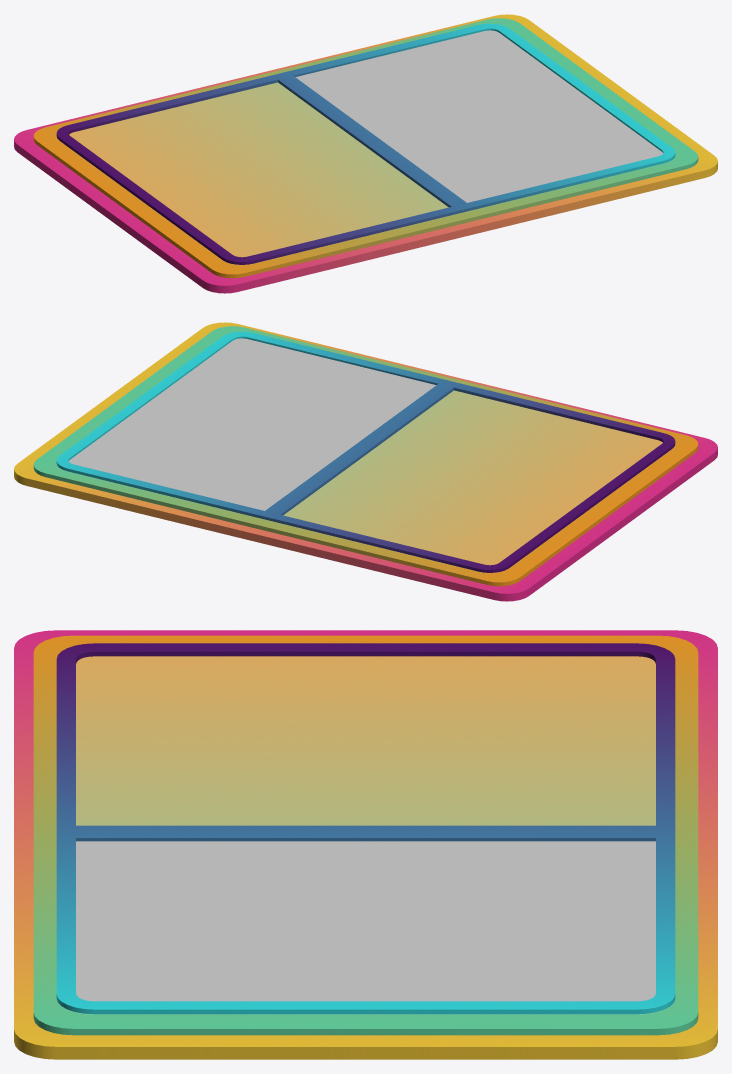
Rendered from Card Design.fbx.
3 renders of one model, top to bottom at view 1: azimuth 30°, elevation 25°; view 2: azimuth 150°, elevation 25°; view 3: azimuth 270°, elevation 25°, orthographic. The views are drawn at different scales.
Visible parts, largest first — view 1: Card Inner Background, Card Background Art Holder, Card Art Holder, Card Art Sleeve, Card Outer Background; view 2: Card Inner Background, Card Background Art Holder, Card Art Holder, Card Art Sleeve, Card Outer Background; view 3: Card Inner Background, Card Background Art Holder, Card Art Holder, Card Art Sleeve, Card Outer Background.
Part boxes in pixels (x1,y1,x2,y2): Card Inner Background: [33, 18, 698, 278]; Card Background Art Holder: [69, 83, 447, 256]; Card Art Holder: [295, 30, 663, 202]; Card Art Sleeve: [56, 23, 675, 264]; Card Outer Background: [14, 14, 717, 293]; Card Inner Background: [33, 326, 698, 586]; Card Background Art Holder: [284, 391, 662, 564]; Card Art Holder: [68, 338, 436, 510]; Card Art Sleeve: [56, 331, 675, 572]; Card Outer Background: [14, 322, 717, 601]; Card Inner Background: [33, 635, 698, 1035]; Card Background Art Holder: [76, 656, 655, 1014]; Card Art Holder: [76, 841, 655, 1001]; Card Art Sleeve: [56, 643, 675, 1014]; Card Outer Background: [14, 630, 717, 1059].
Bounding box in the file's own units: 700 × 19.5 × 500.
